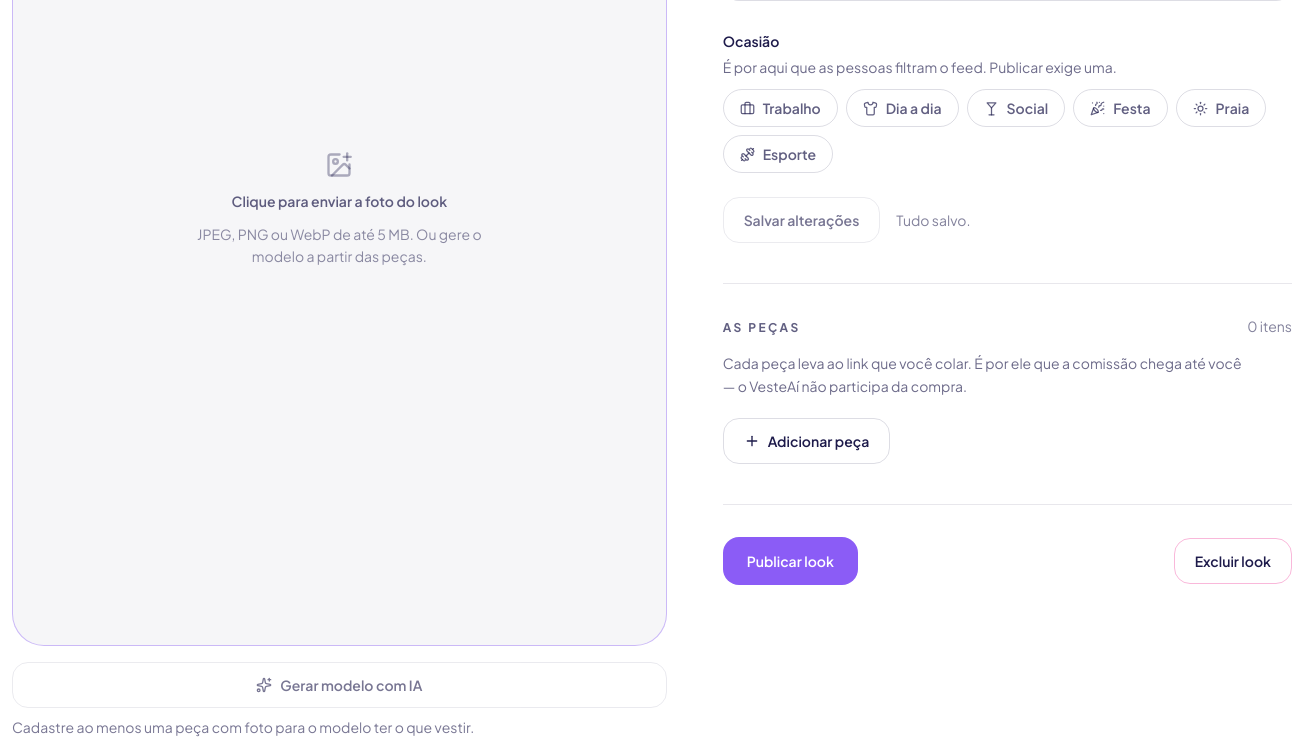
Test: editor de look › explica a recusa por falta de imagem
(page scrolled)
Click the button "Publicar look" at (790, 560), box [723,536,858,584]
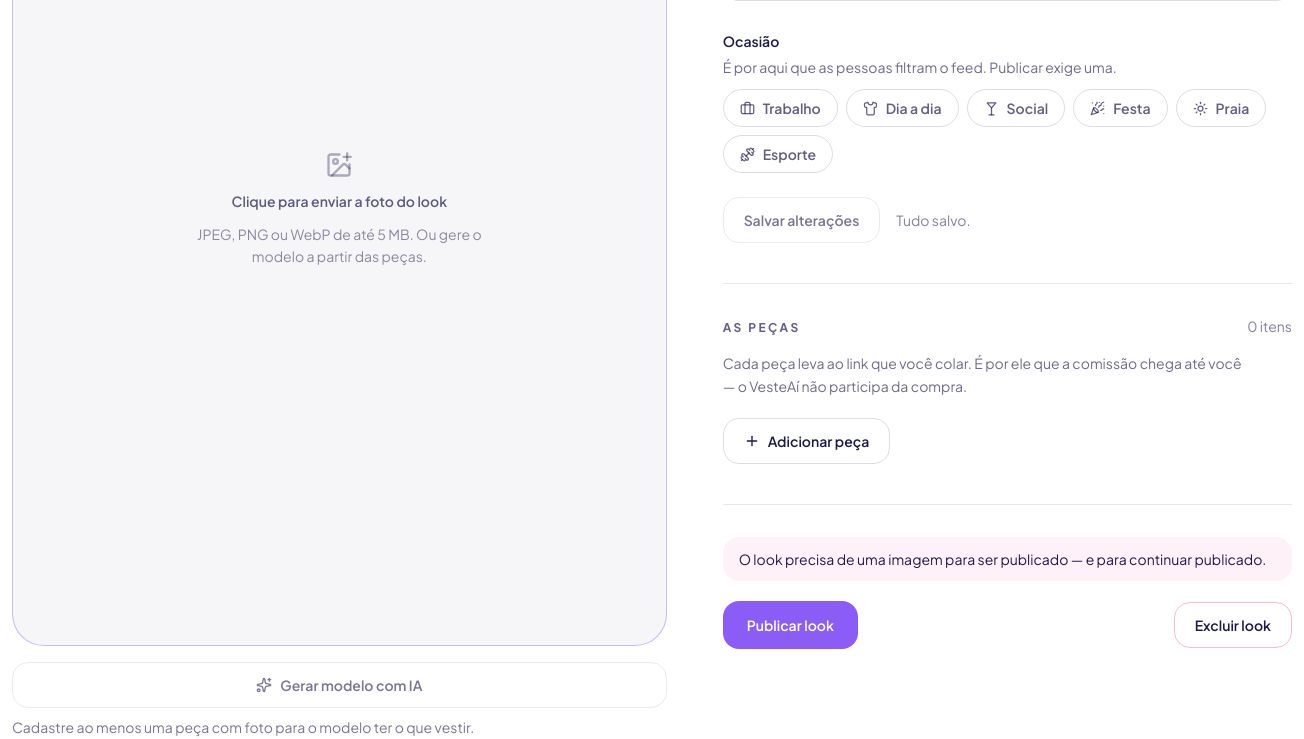
Now the message shows "precisa de uma imagem", box [739,550,1266,568]
